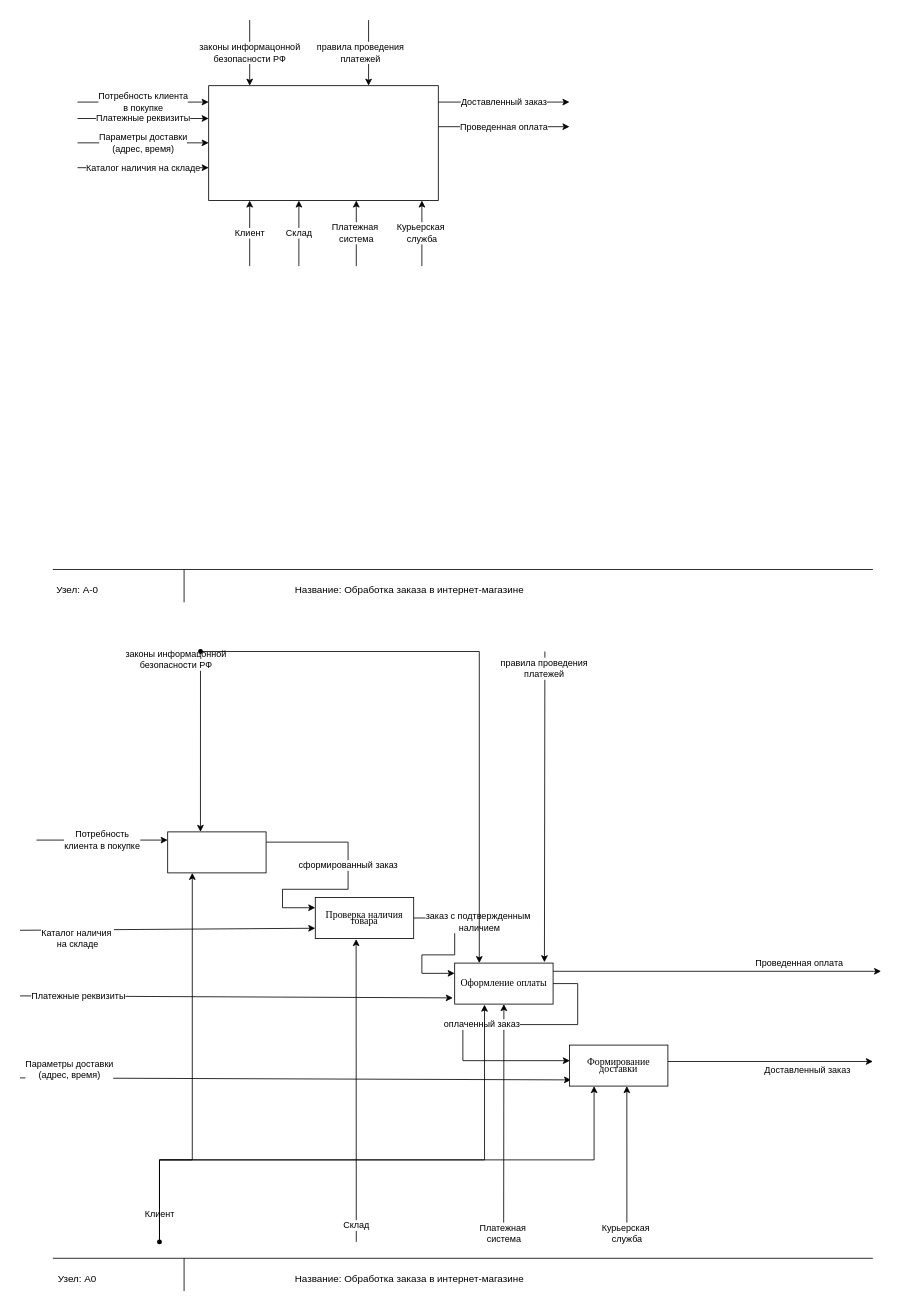
Image size: 902x1306. Some labels were removed from this diagram. Here are the shapes that lost their labels. From the top down, the centre of each, then its label:
At point (323, 142): "Обработка заказа в интернет-магазине".
At point (216, 852): "Приём заказа".
